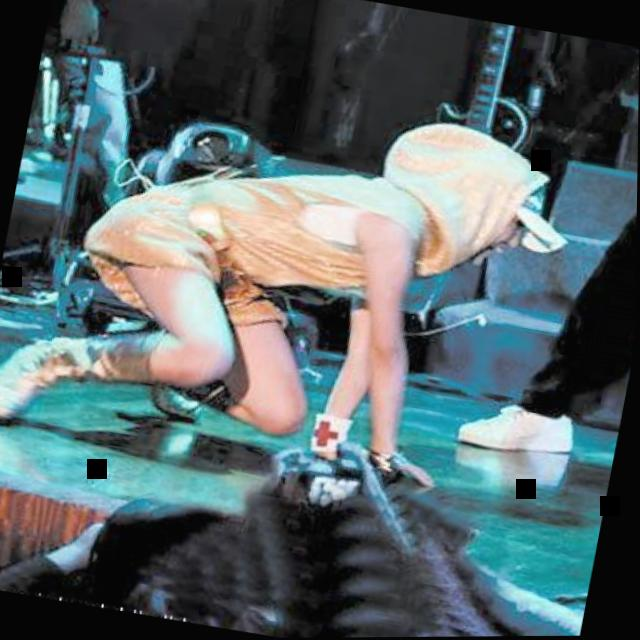Fall-Detected: (0, 377, 610, 640)
